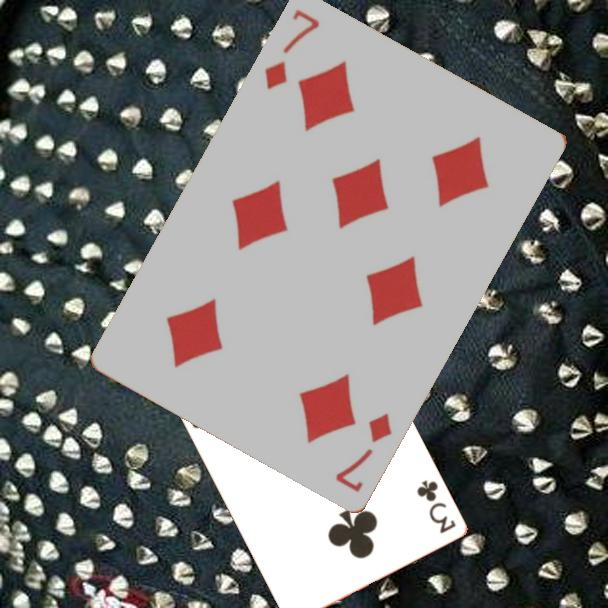c03: (413, 476, 459, 536)
d07: (331, 408, 395, 495), (260, 5, 322, 92)
